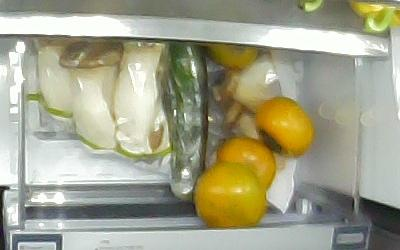persimmon: (193, 165, 266, 226), (256, 96, 314, 157), (215, 138, 276, 193)
